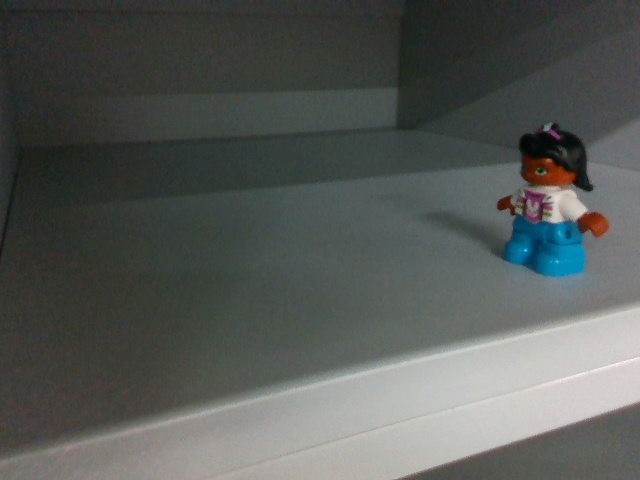people: (495, 128, 612, 284)
